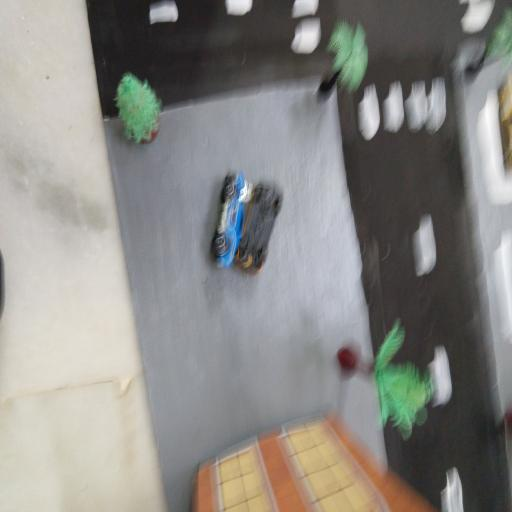car crash: (206, 168, 290, 274)
